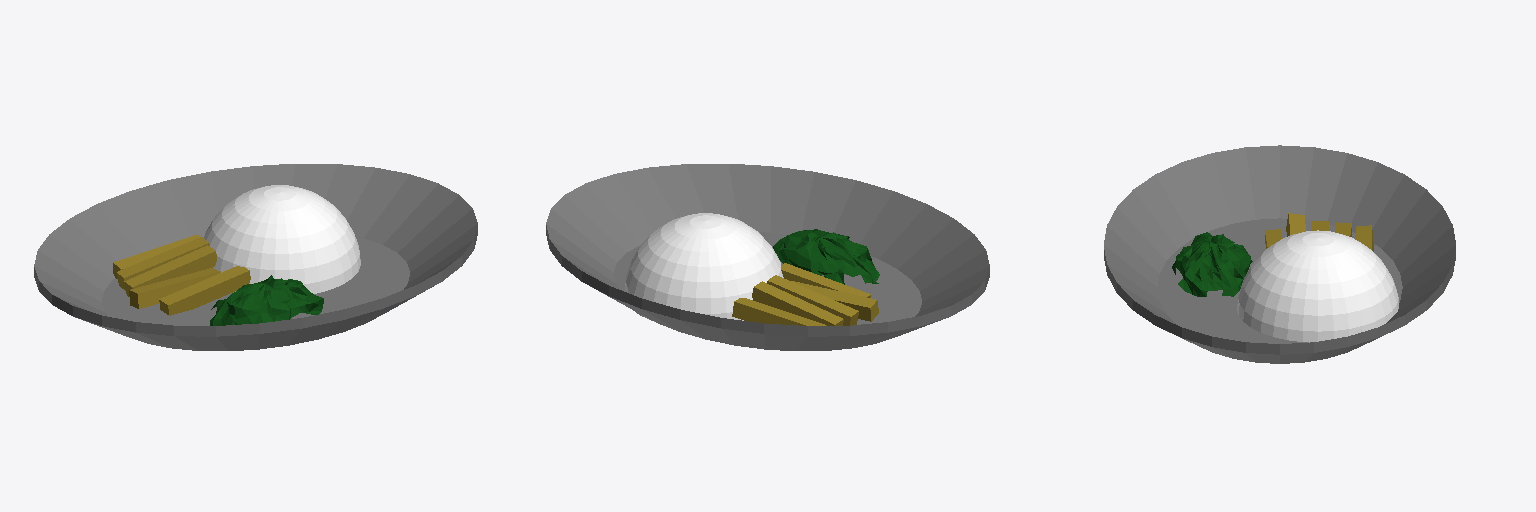
File: rice2_meat2_veg1.obj
3 views of the same model, side by side, from view 1: azimuth 30°, elevation 25°; view 2: azimuth 150°, elevation 25°; view 3: azimuth 270°, elevation 25° (orthographic).
Visible parts, largest first — view 1: Cylinder, Sphere, Sphere.001, Cube.004_Cube.005, Cube.001_Cube.002, Cube.002_Cube.003, Cube_Cube.001, Cube.003_Cube.004; view 2: Cylinder, Sphere, Sphere.001, Cube_Cube.001, Cube.003_Cube.004, Cube.001_Cube.002, Cube.002_Cube.003, Cube.004_Cube.005; view 3: Cylinder, Sphere, Sphere.001.
Boxes of the visible parts, box(x1,y1,x2,y2) form: Cylinder: box(34, 164, 477, 350); Sphere: box(204, 185, 360, 293); Sphere.001: box(210, 275, 323, 325); Cube.004_Cube.005: box(159, 266, 250, 315); Cube.001_Cube.002: box(124, 245, 216, 296); Cube.002_Cube.003: box(129, 268, 220, 308); Cube_Cube.001: box(116, 237, 209, 290); Cube.003_Cube.004: box(113, 234, 199, 278); Cylinder: box(546, 164, 989, 350); Sphere: box(625, 213, 783, 321); Sphere.001: box(773, 229, 879, 284); Cube_Cube.001: box(752, 281, 843, 325); Cube.003_Cube.004: box(732, 298, 826, 325); Cube.001_Cube.002: box(767, 275, 858, 325); Cube.002_Cube.003: box(791, 281, 878, 321); Cube.004_Cube.005: box(781, 263, 870, 297); Cylinder: box(1104, 145, 1455, 363); Sphere: box(1237, 230, 1398, 342); Sphere.001: box(1172, 232, 1252, 296).
Bounding box in the file's own units: 5.75 × 1.05 × 4.31.